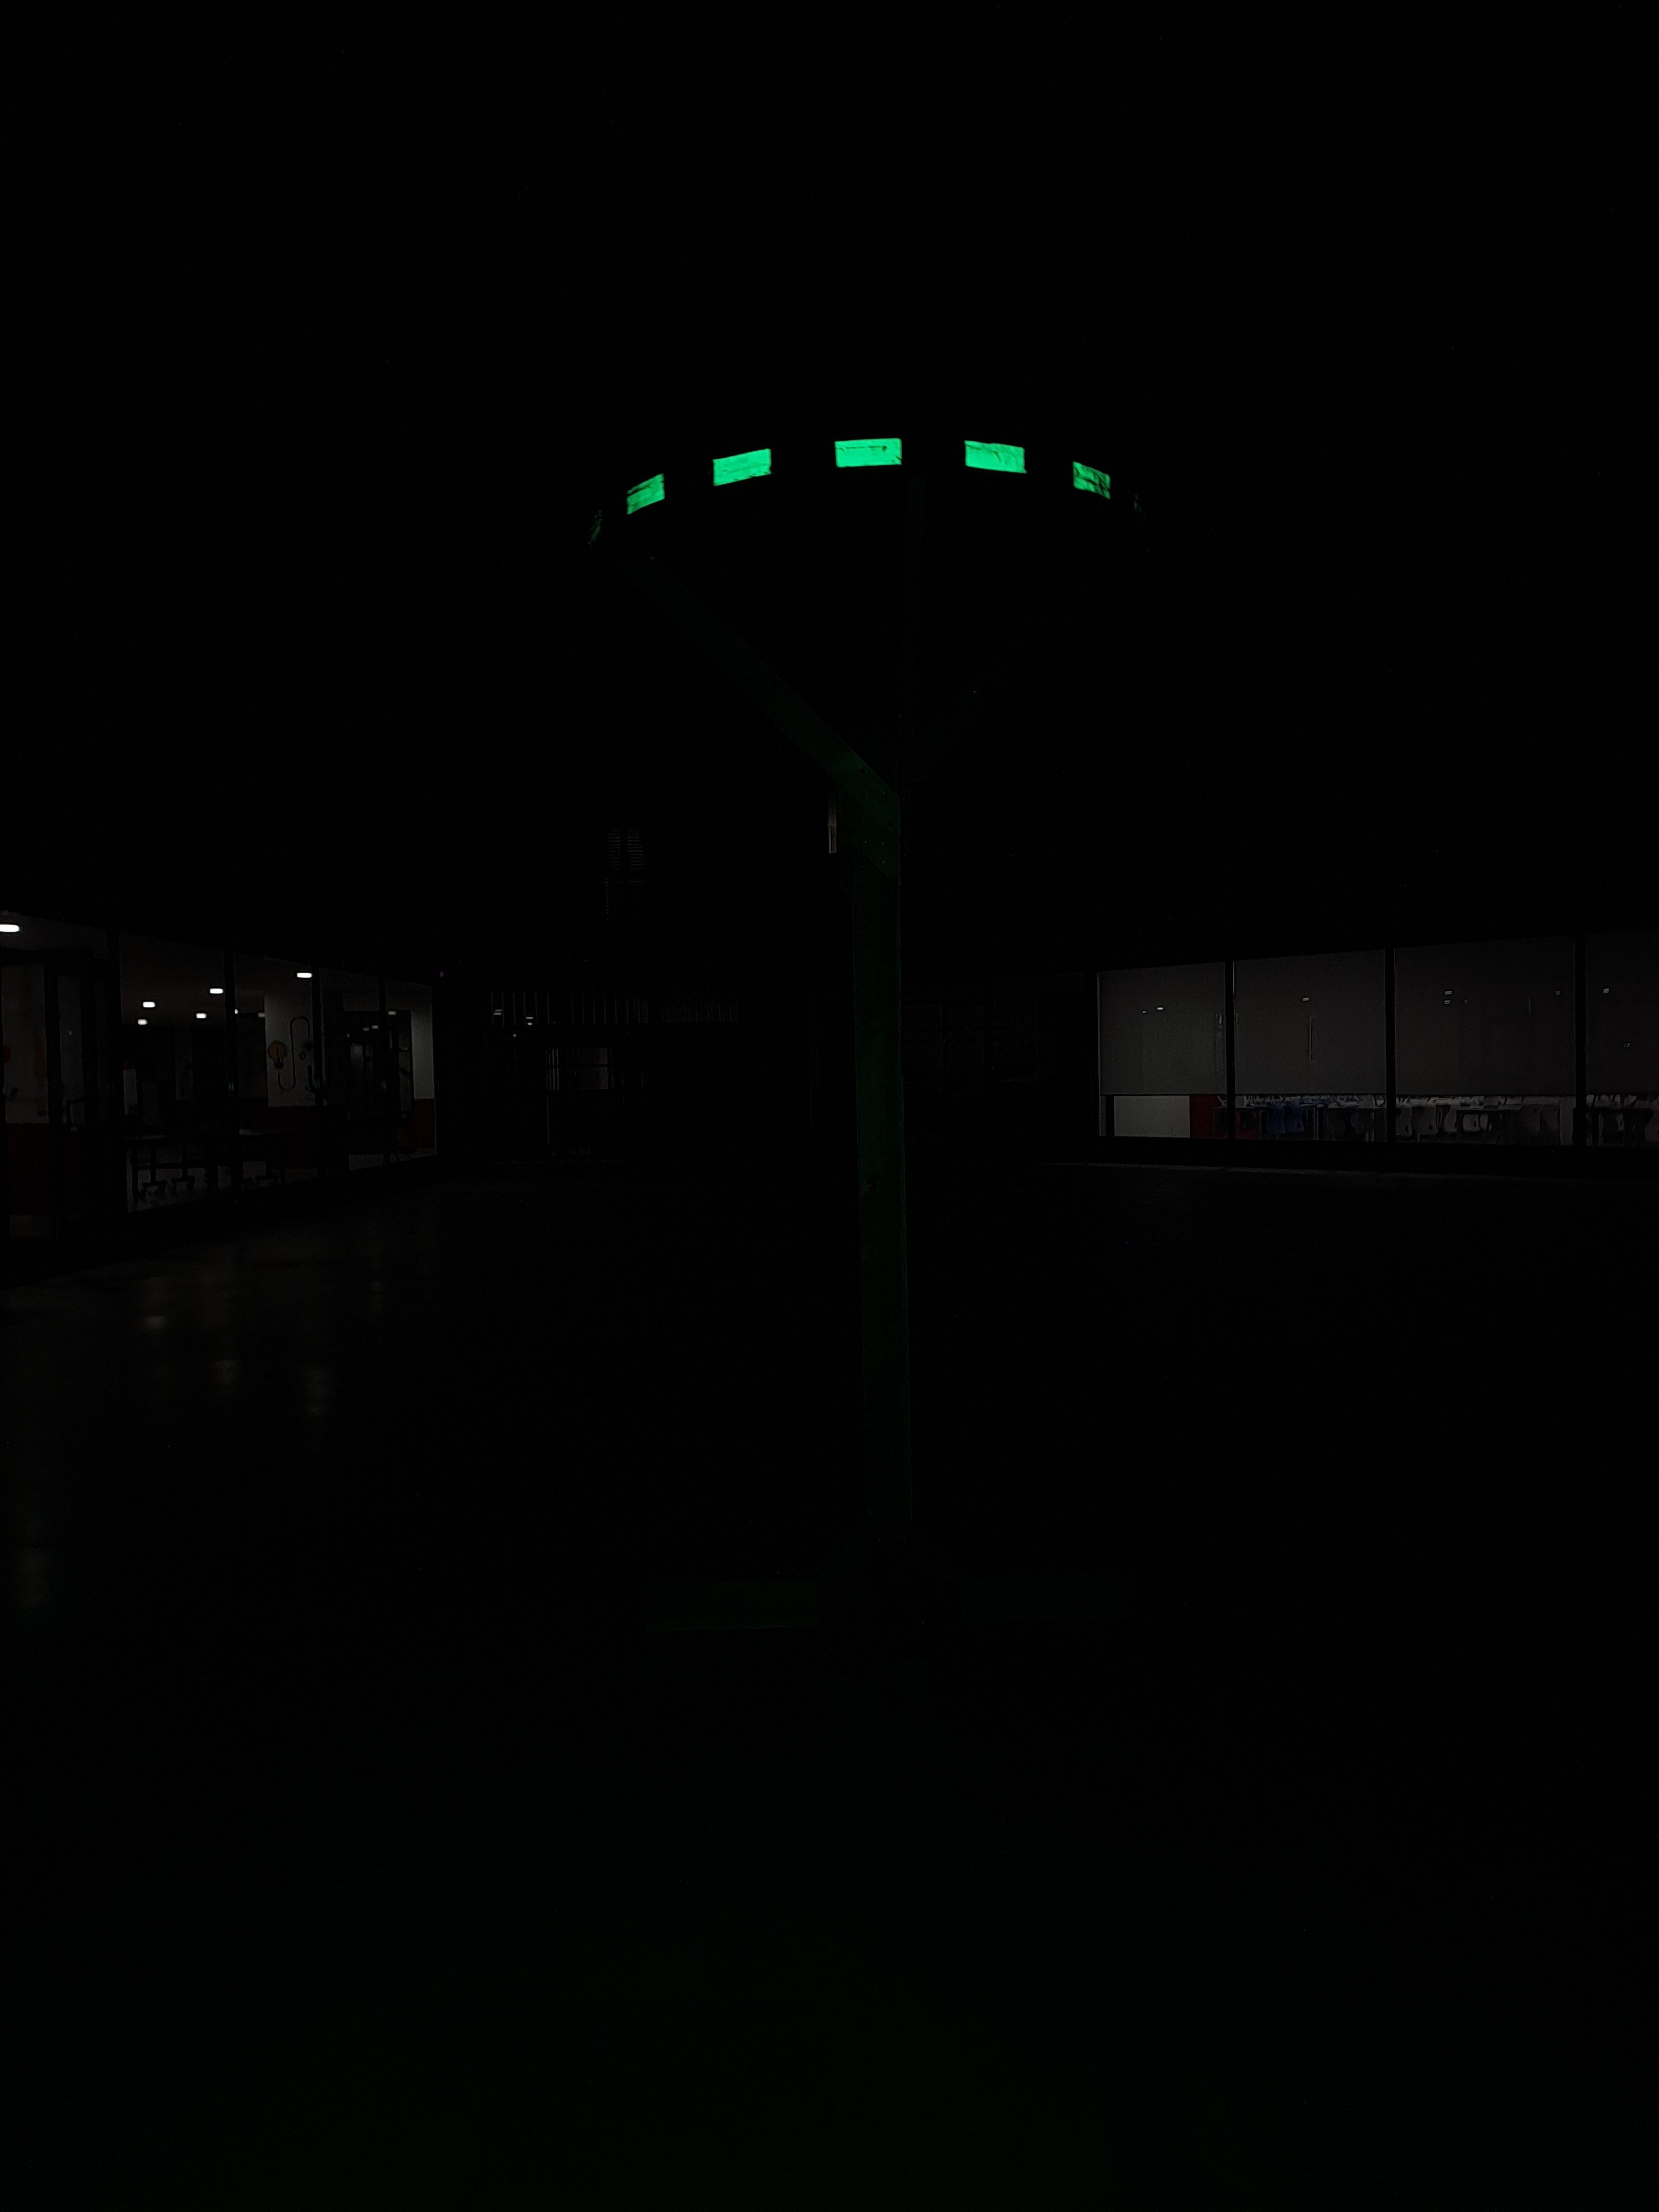hoop: (619, 416, 1122, 533)
